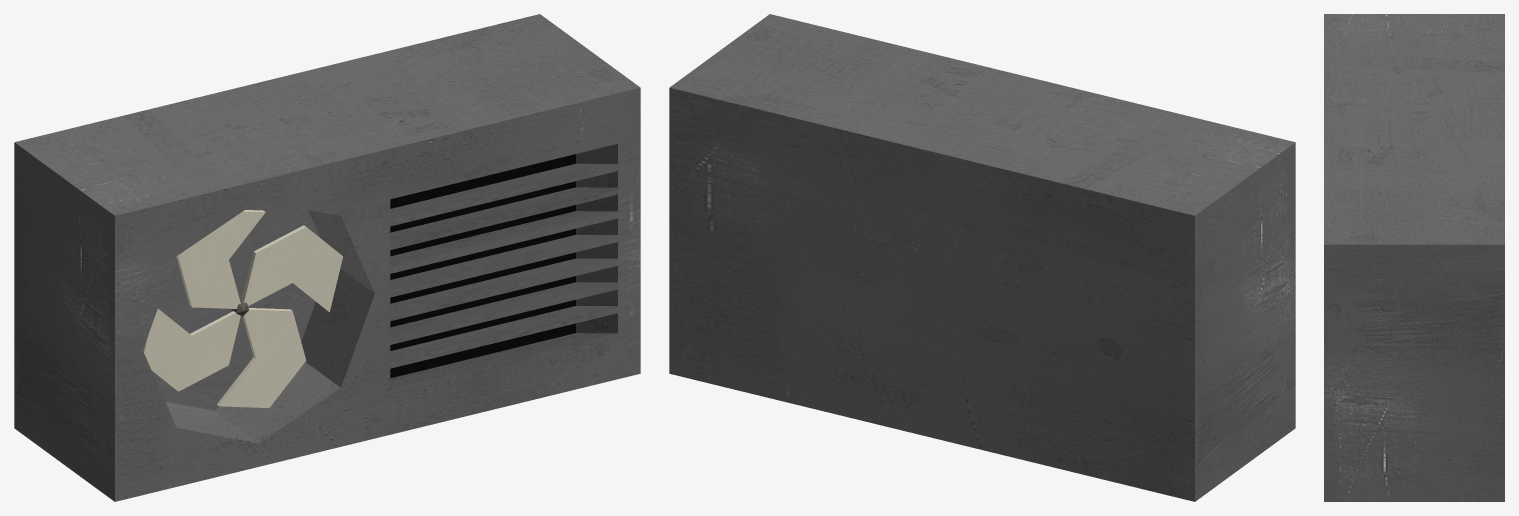
Rendered from vent.fbx.
3 renders of one model, left to right at view 1: azimuth 30°, elevation 25°; view 2: azimuth 150°, elevation 25°; view 3: azimuth 270°, elevation 25°, orthographic. The views are drawn at different scales.
Parts seen in each view (by area): view 1: Ventilation; view 2: Ventilation; view 3: Ventilation.
Part boxes in pixels (x1,y1,x2,y2): Ventilation: (14,14,640,501); Ventilation: (669,14,1295,501); Ventilation: (1324,14,1504,501).
Size of the model in its own units: 270 by 140 by 89.51.
